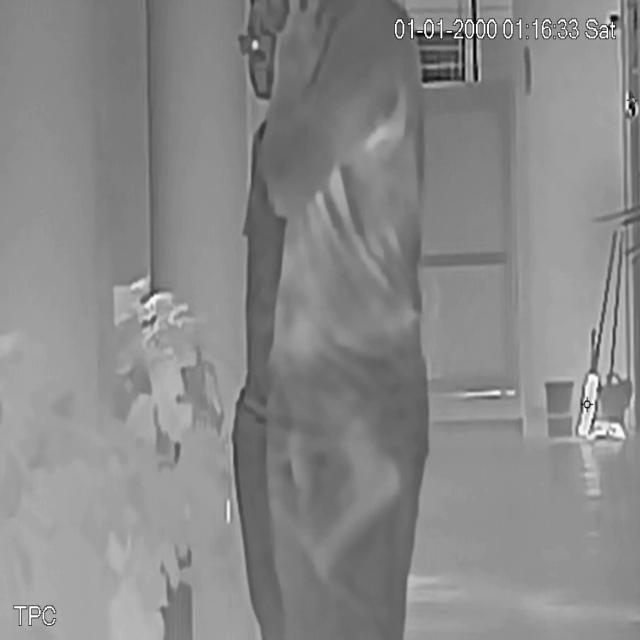Weapon: (306, 418, 409, 582)
